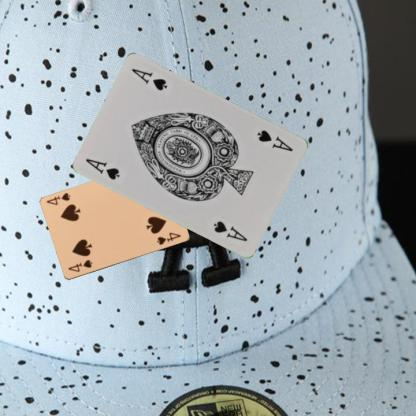4s: (65, 257, 94, 273)
As: (254, 127, 295, 153), (83, 156, 122, 182)
